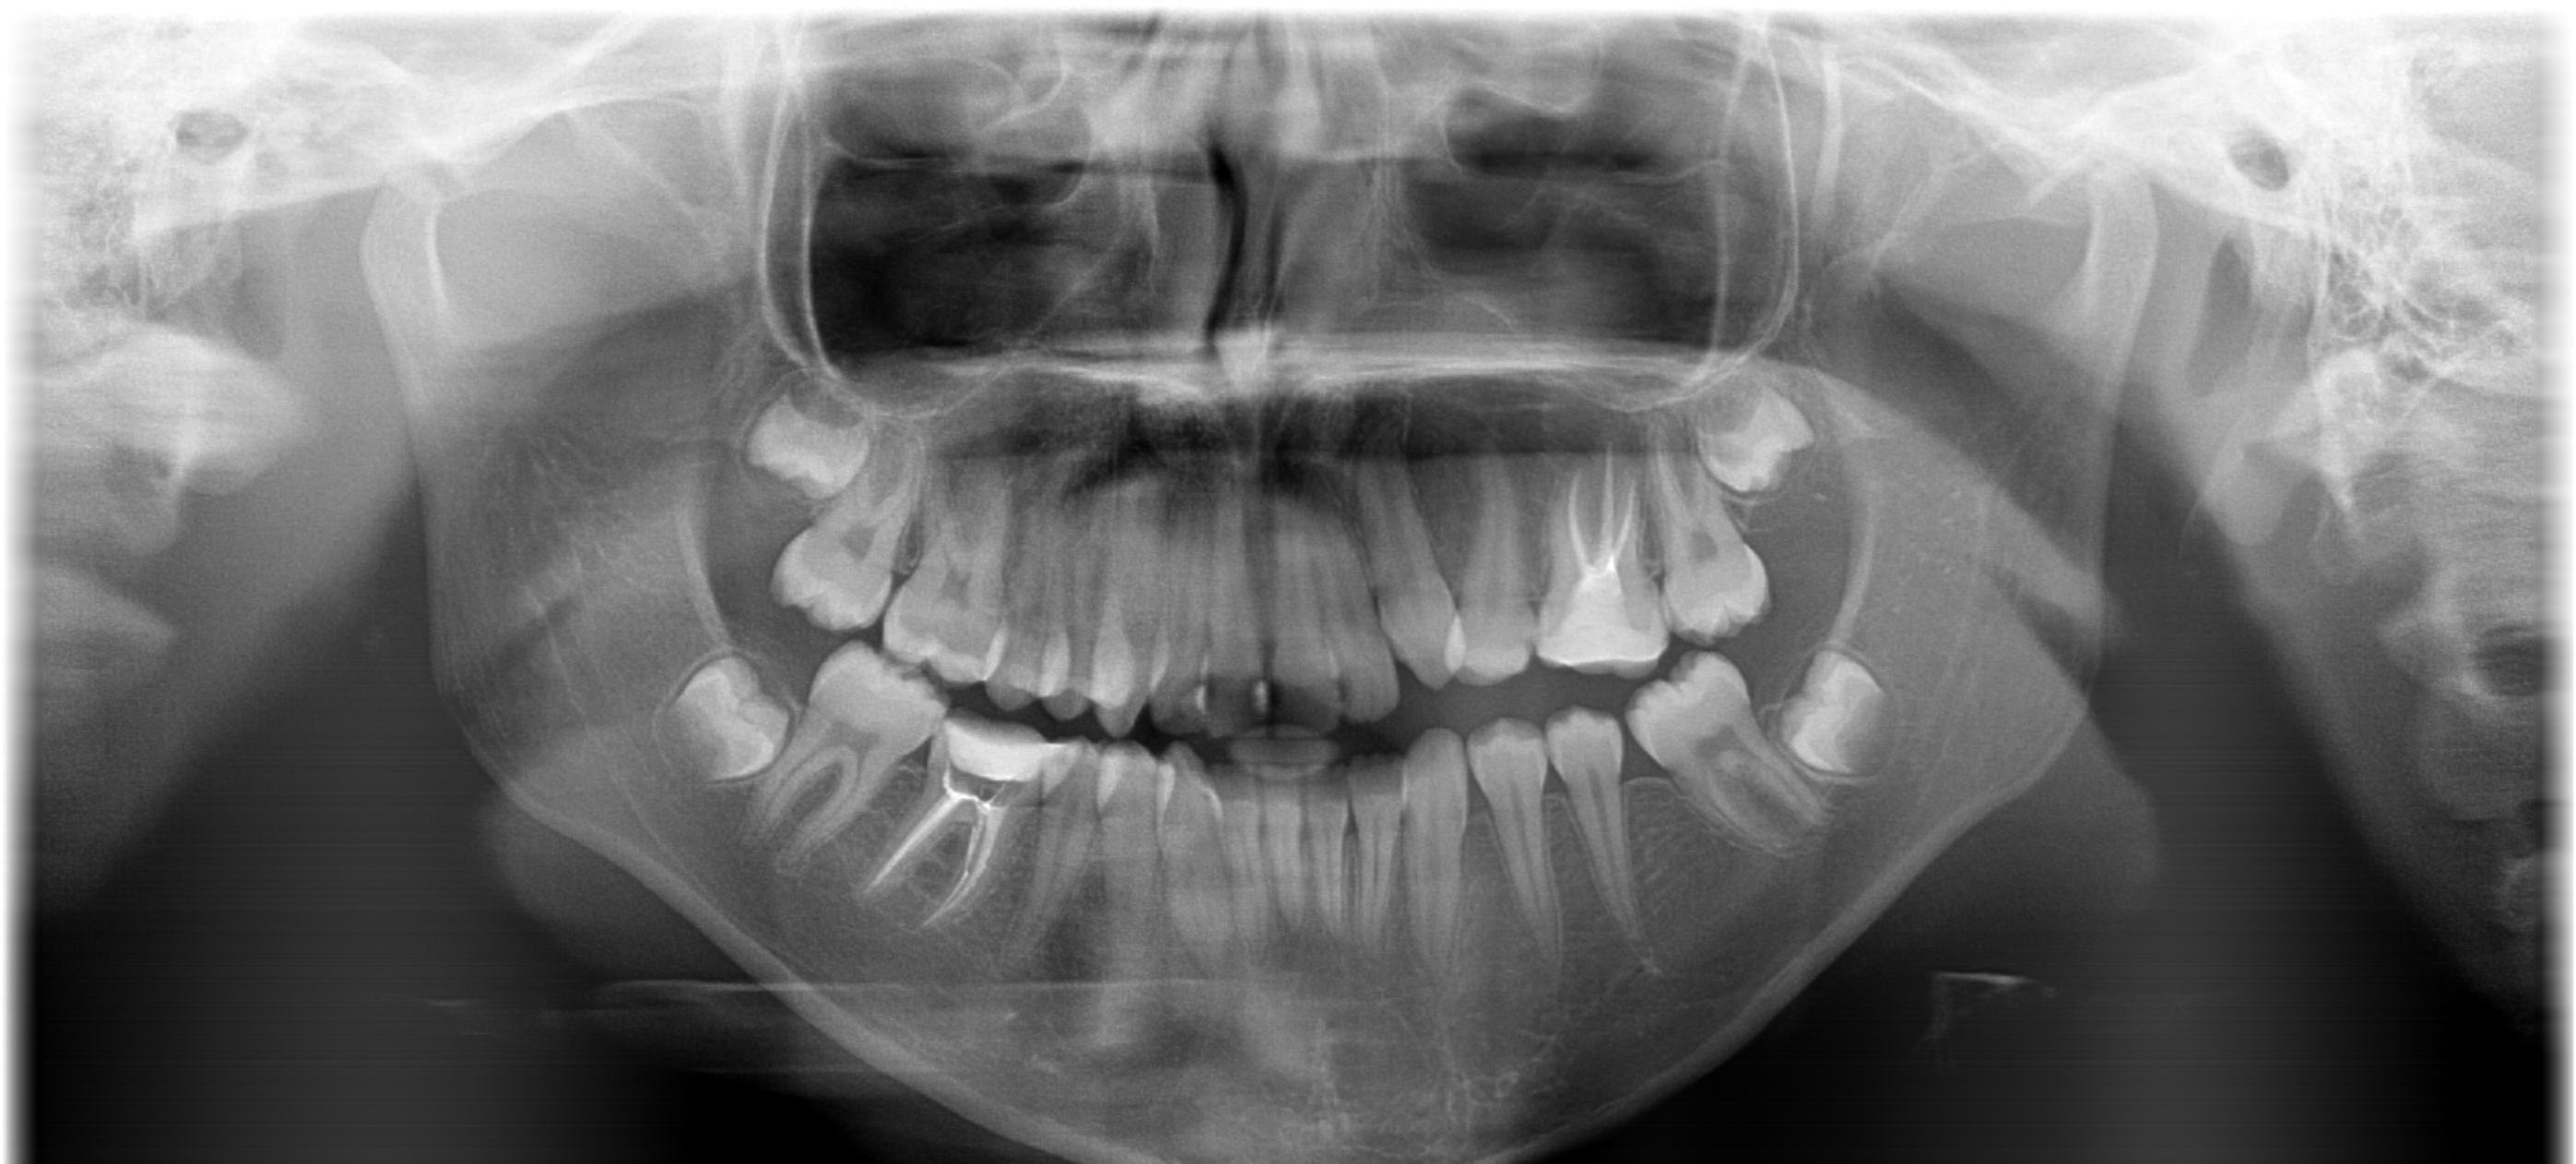apinamiento: (876, 703, 1063, 937), (1528, 438, 1674, 688)
cordal: (1738, 619, 1930, 803), (629, 622, 800, 808), (733, 358, 907, 522), (1669, 366, 1842, 522)
diastema: (946, 614, 1173, 714), (1020, 739, 1244, 821)
